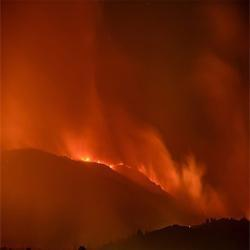fire: (76, 149, 99, 167)
